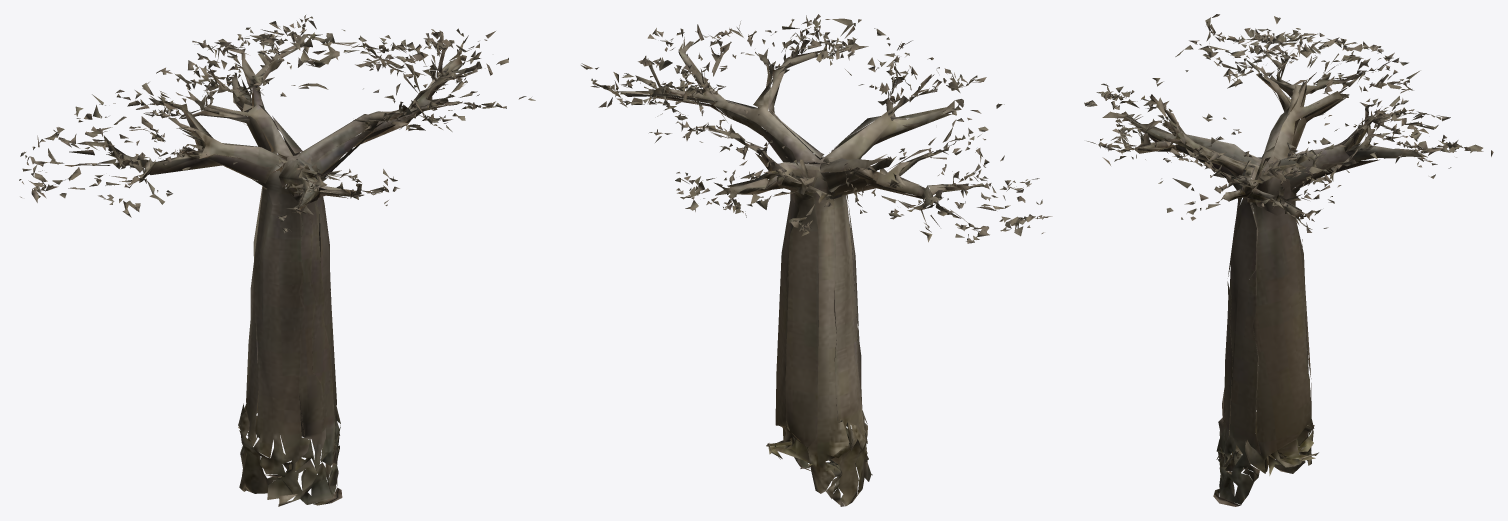
The model's file is baoba_zahar_broto.glb.
3 renders of one model, left to right at view 1: azimuth 30°, elevation 25°; view 2: azimuth 150°, elevation 25°; view 3: azimuth 270°, elevation 25°, orthographic.
Visible parts, largest first — view 1: geometry_0; view 2: geometry_0; view 3: geometry_0.
Boxes of the visible parts, <box> form: geometry_0: <box>19,15,535,506</box>; geometry_0: <box>581,14,1052,506</box>; geometry_0: <box>1084,14,1493,506</box>.
Bounding box in the file's own units: 0.9902 × 0.9157 × 0.747.
Materials: 1 (1 with a texture image).
